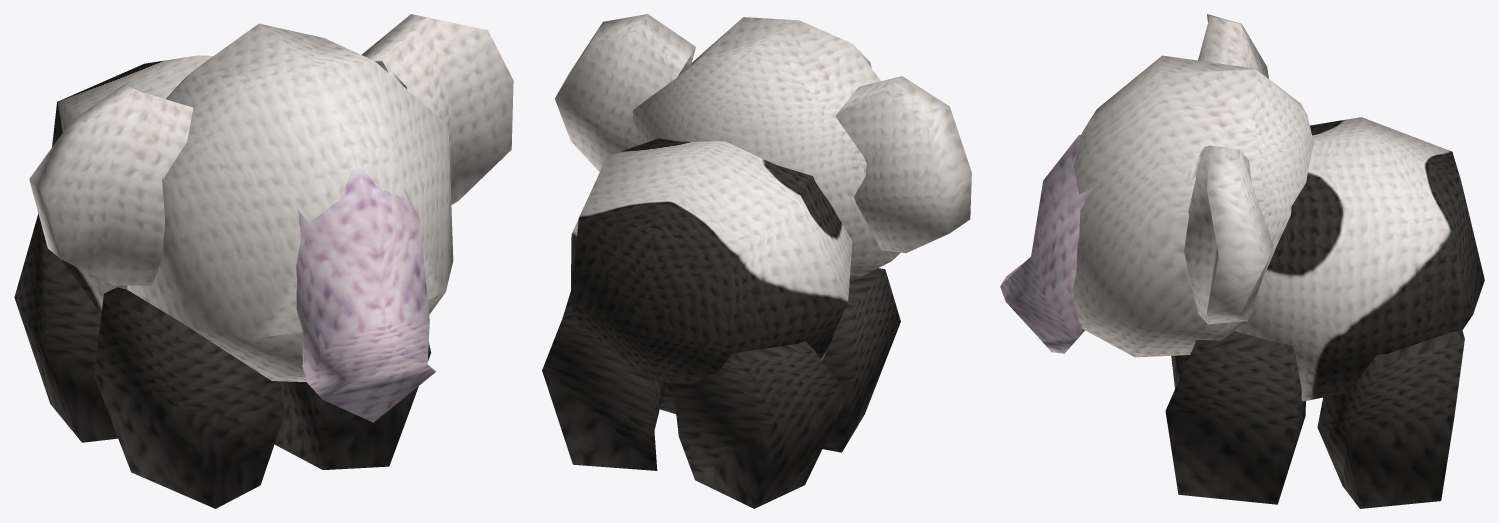
The model's file is doll_elephant_col.FBX.
3 views of the same model, side by side, from view 1: azimuth 30°, elevation 25°; view 2: azimuth 150°, elevation 25°; view 3: azimuth 270°, elevation 25° (orthographic). The views are drawn at different scales.
Parts seen in each view (by area): view 1: doll_cow_elephant; view 2: doll_cow_elephant; view 3: doll_cow_elephant.
Boxes of the visible parts, left/top/right/bottom form: doll_cow_elephant: left=14, top=14, right=513, bottom=508; doll_cow_elephant: left=542, top=14, right=971, bottom=508; doll_cow_elephant: left=1000, top=14, right=1484, bottom=508.
Bounding box in the file's own units: 96.79 × 85.53 × 96.99.
